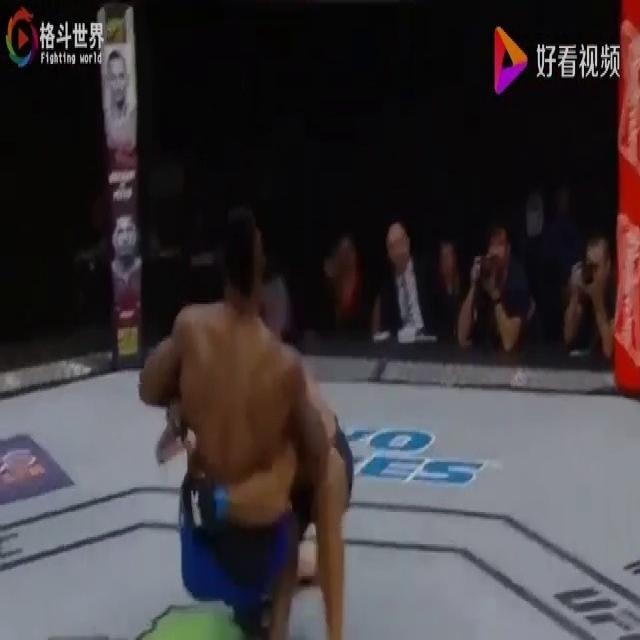fight: (113, 192, 375, 638)
